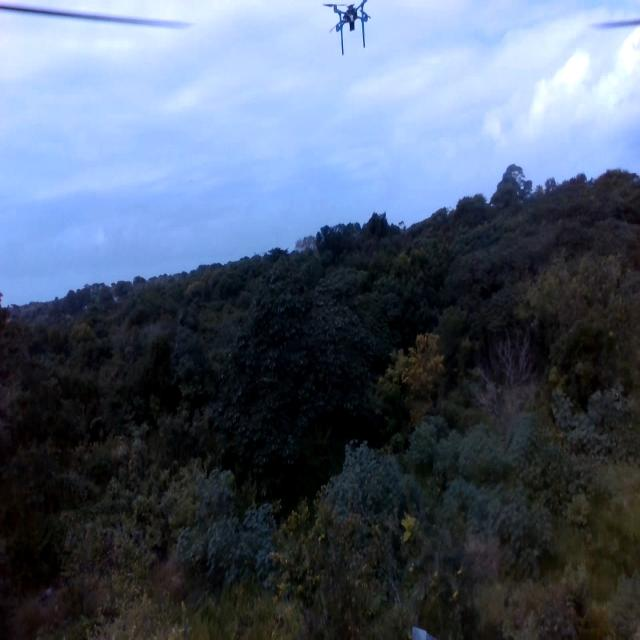-uav-: (320, 0, 378, 62)
